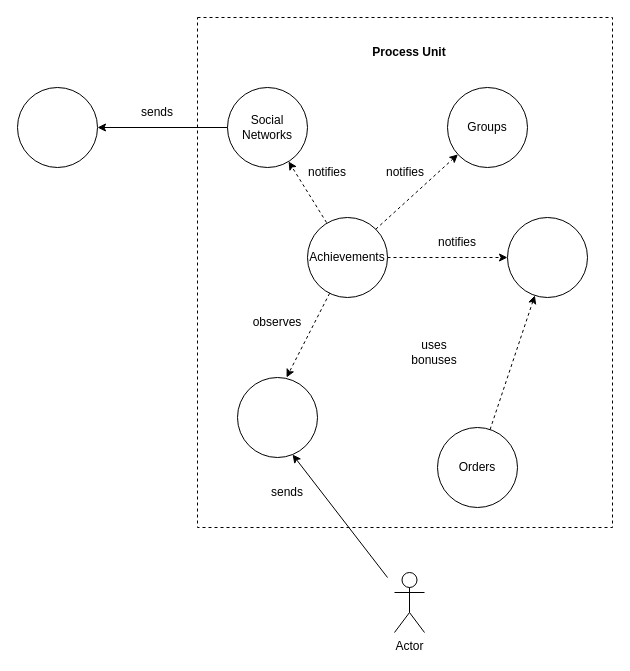
This 630x671 diagram has some shape labels left out. Here are the shapes that lost their labels. From the top down, the box of each, then its label:
(16, 86, 98, 168): Social Network
(506, 216, 588, 298): Loyalty
(236, 376, 318, 458): Athletic Metrics
